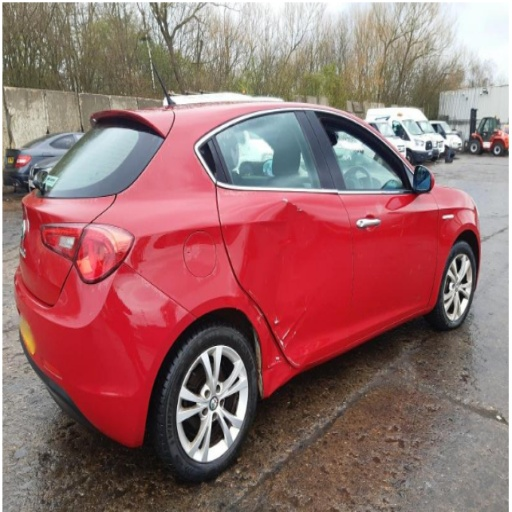dent: (103, 222, 250, 368), (226, 198, 329, 349), (288, 336, 331, 364)
scratch: (282, 308, 307, 341), (95, 389, 122, 401), (282, 197, 303, 212), (266, 355, 282, 372), (274, 330, 286, 352), (283, 331, 296, 350), (249, 290, 261, 306), (253, 305, 262, 324), (286, 354, 299, 367), (392, 221, 413, 228), (400, 218, 404, 237), (274, 316, 279, 326)
